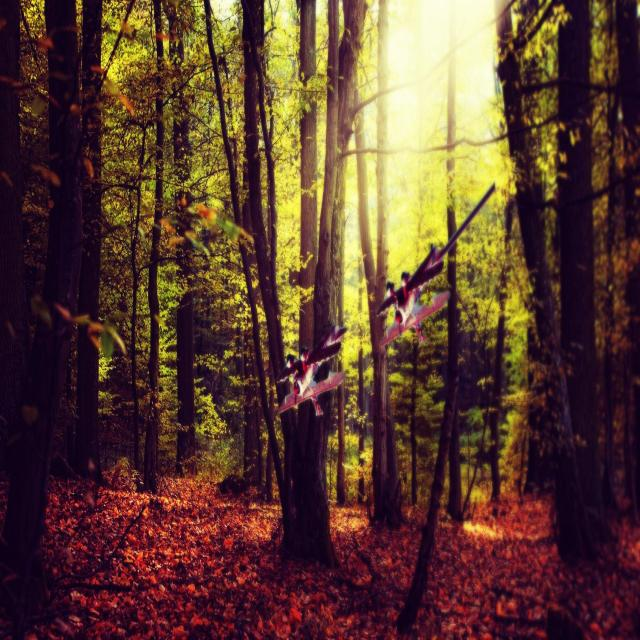airplane: (375, 181, 496, 348), (275, 323, 347, 416)
